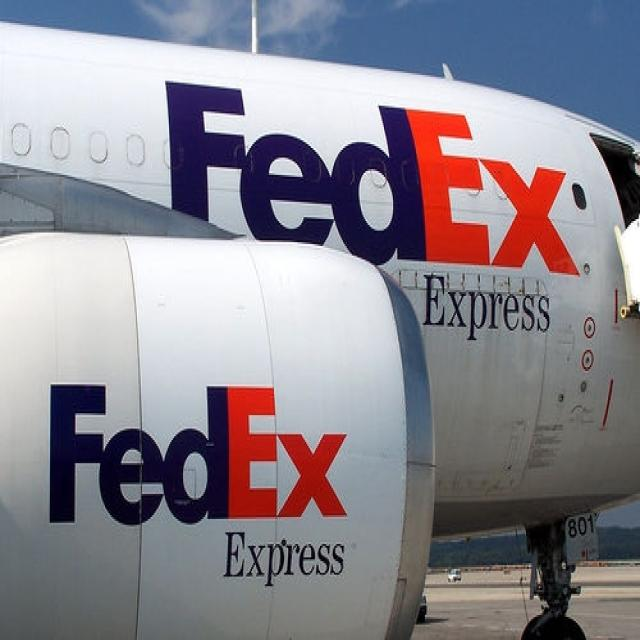fedex: (158, 70, 593, 286), (39, 372, 353, 529)
